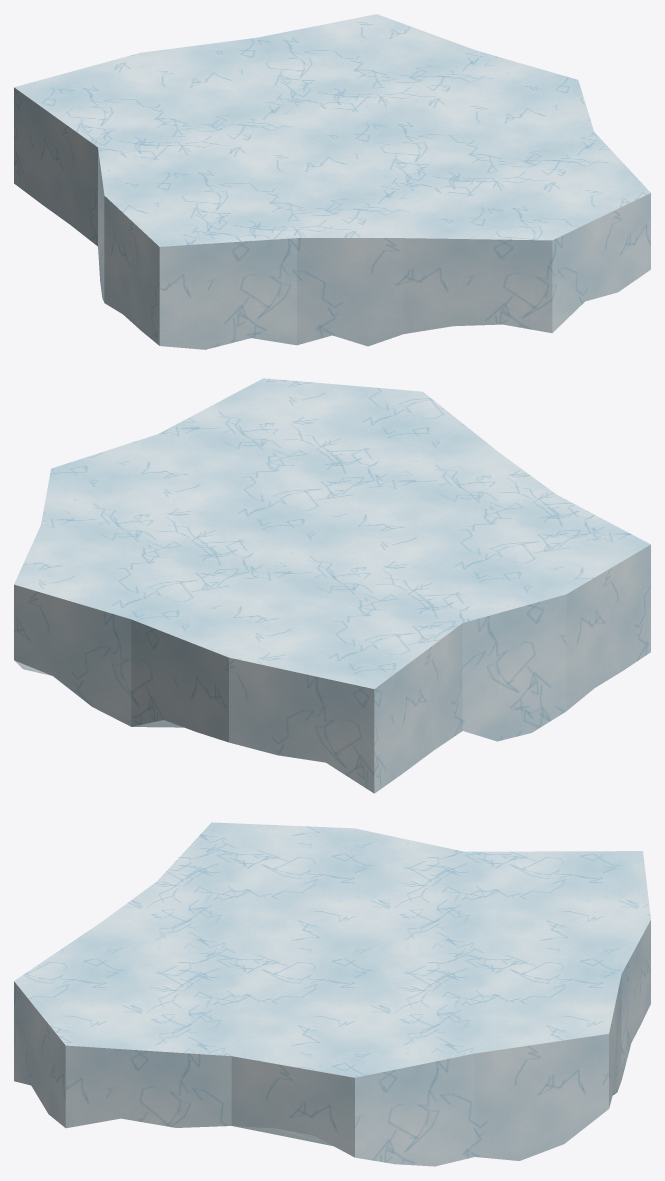
Rendered from hielo1.fbx.
3 views of the same model, one above another, from view 1: azimuth 30°, elevation 25°; view 2: azimuth 150°, elevation 25°; view 3: azimuth 270°, elevation 25° (orthographic). The views are drawn at different scales.
Parts seen in each view (by area): view 1: hielo1; view 2: hielo1; view 3: hielo1.
Boxes of the visible parts, box(x1,y1,x2,y2) form: hielo1: box(14, 14, 650, 349); hielo1: box(14, 378, 650, 793); hielo1: box(14, 822, 650, 1166).
Size of the model in its own units: 9.74 by 2.28 by 10.26.
1 material, 1 textured.
